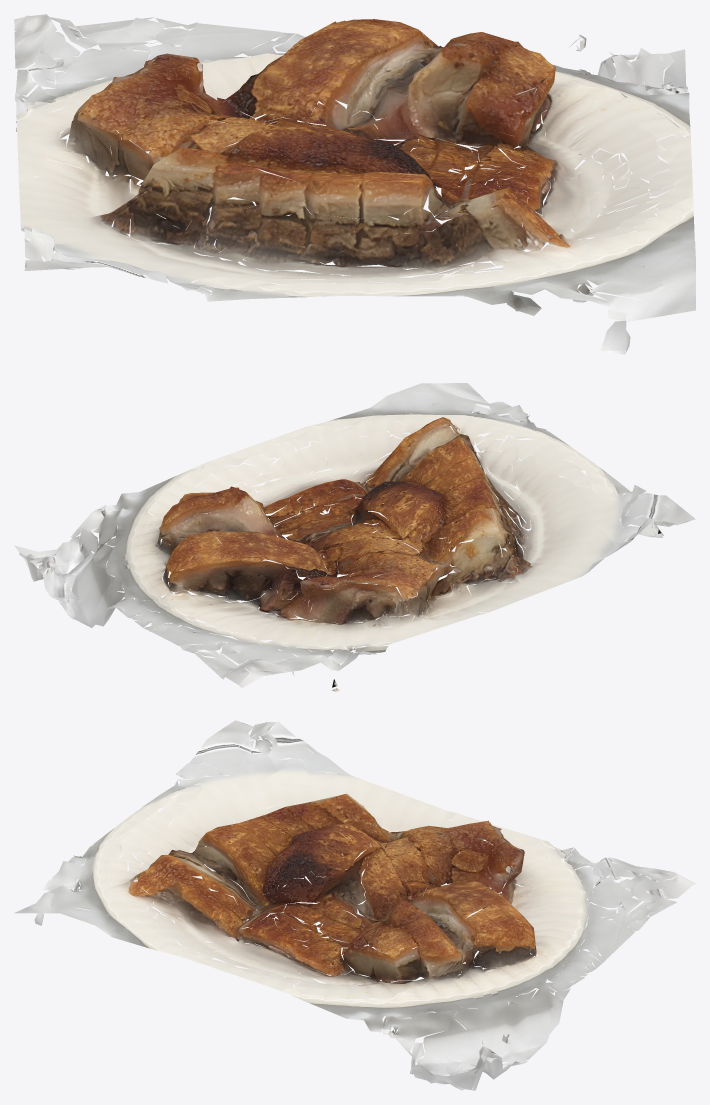
The model's file is roast_pig.glb.
3 renders of one model, top to bottom at view 1: azimuth 30°, elevation 25°; view 2: azimuth 150°, elevation 25°; view 3: azimuth 270°, elevation 25°, orthographic. The views are drawn at different scales.
Visible parts, largest first — view 1: Object_2; view 2: Object_2; view 3: Object_2.
Boxes of the visible parts, bbox=[...] form: Object_2: bbox=[14, 14, 695, 354]; Object_2: bbox=[14, 383, 695, 691]; Object_2: bbox=[14, 720, 695, 1090].
Size of the model in its own units: 8.3 by 1.69 by 8.73.
Materials: 1 (1 with a texture image).
